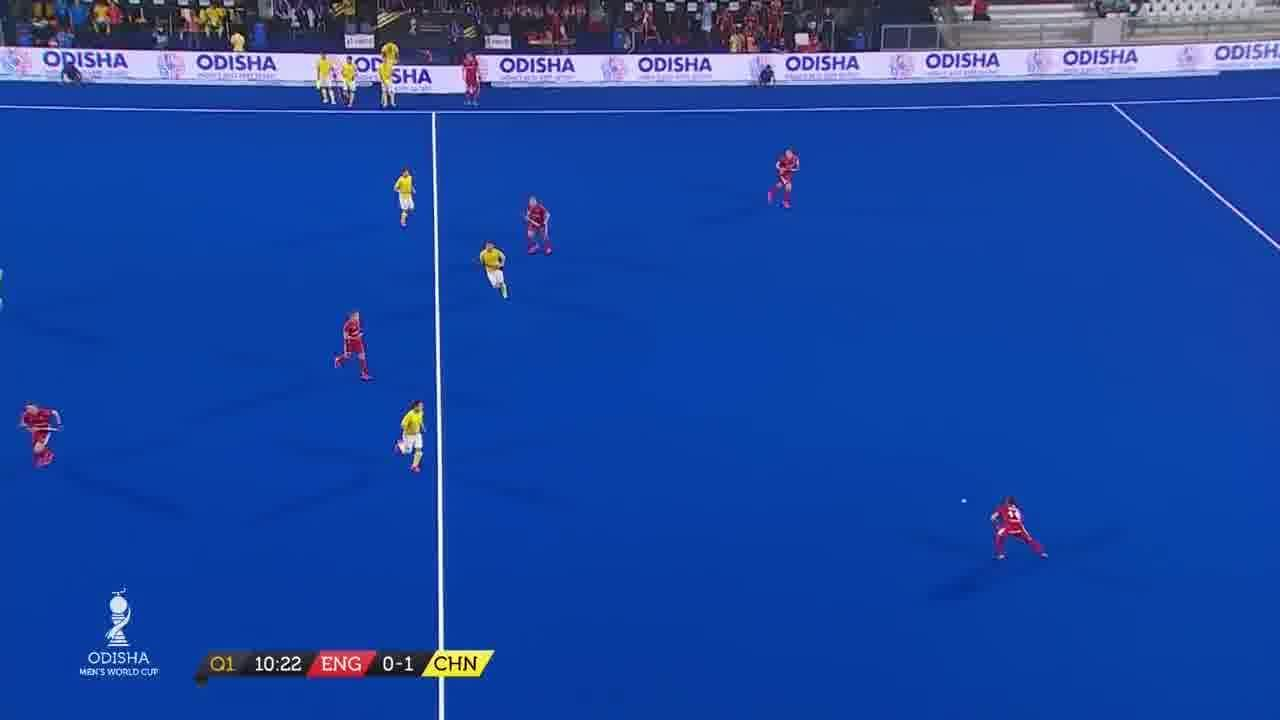ball: (959, 494, 967, 506)
